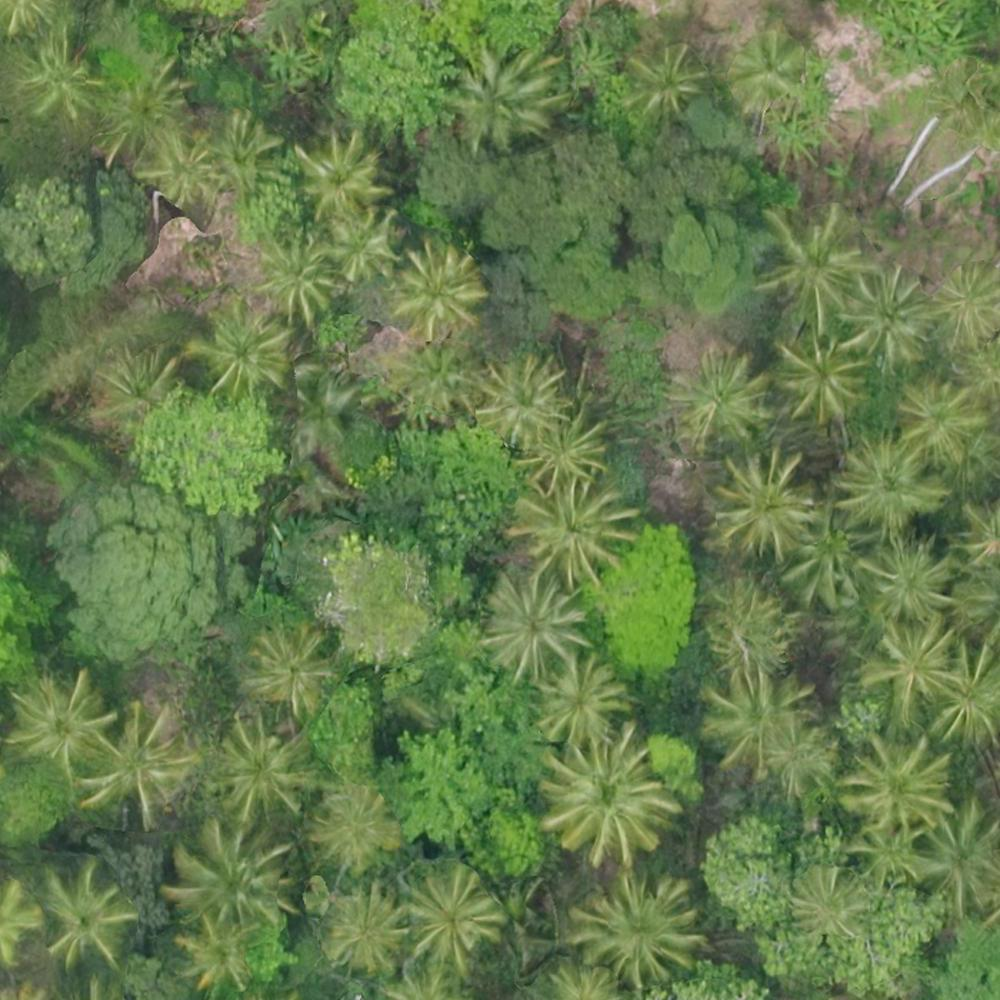Palm: (546, 735, 681, 863), (581, 874, 701, 985), (170, 822, 295, 928), (749, 206, 865, 317), (701, 665, 813, 772), (511, 482, 633, 577), (88, 706, 190, 816), (837, 733, 950, 829), (714, 455, 819, 558), (447, 50, 552, 151), (37, 861, 138, 965), (487, 575, 591, 676), (836, 435, 948, 528), (10, 674, 113, 774), (862, 615, 961, 719), (403, 866, 501, 967), (674, 351, 775, 449), (211, 715, 307, 817), (905, 804, 1000, 905), (862, 529, 962, 623), (190, 308, 295, 394), (892, 376, 992, 466), (305, 781, 402, 872), (771, 332, 868, 422), (844, 268, 933, 366), (786, 499, 870, 602), (471, 358, 569, 443), (535, 655, 630, 740), (394, 247, 482, 336), (926, 640, 1000, 743), (254, 624, 337, 712), (518, 402, 604, 486), (293, 139, 383, 218), (258, 236, 346, 315), (787, 862, 870, 945), (176, 916, 259, 996), (320, 890, 400, 973), (626, 41, 703, 125), (926, 261, 998, 345), (322, 211, 403, 284), (734, 34, 804, 104)
